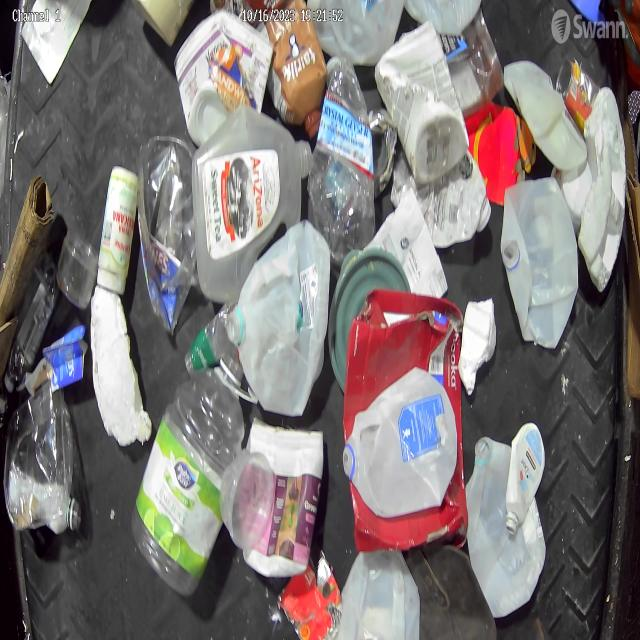can: (554, 58, 601, 135)
milk_jug: (190, 102, 314, 306), (226, 218, 332, 420), (342, 365, 459, 520), (465, 435, 547, 620), (499, 175, 580, 352), (502, 57, 588, 172), (338, 547, 421, 640)
plastic_bottle: (130, 348, 245, 600), (308, 55, 378, 268), (4, 249, 59, 394)
